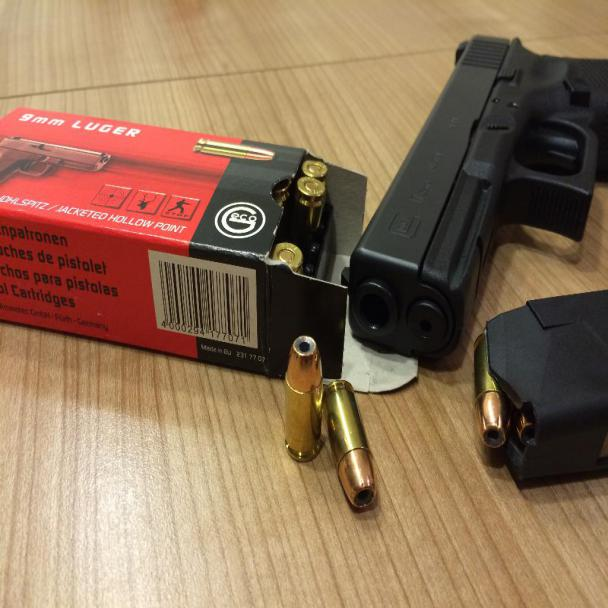Gun: (226, 3, 607, 542)
